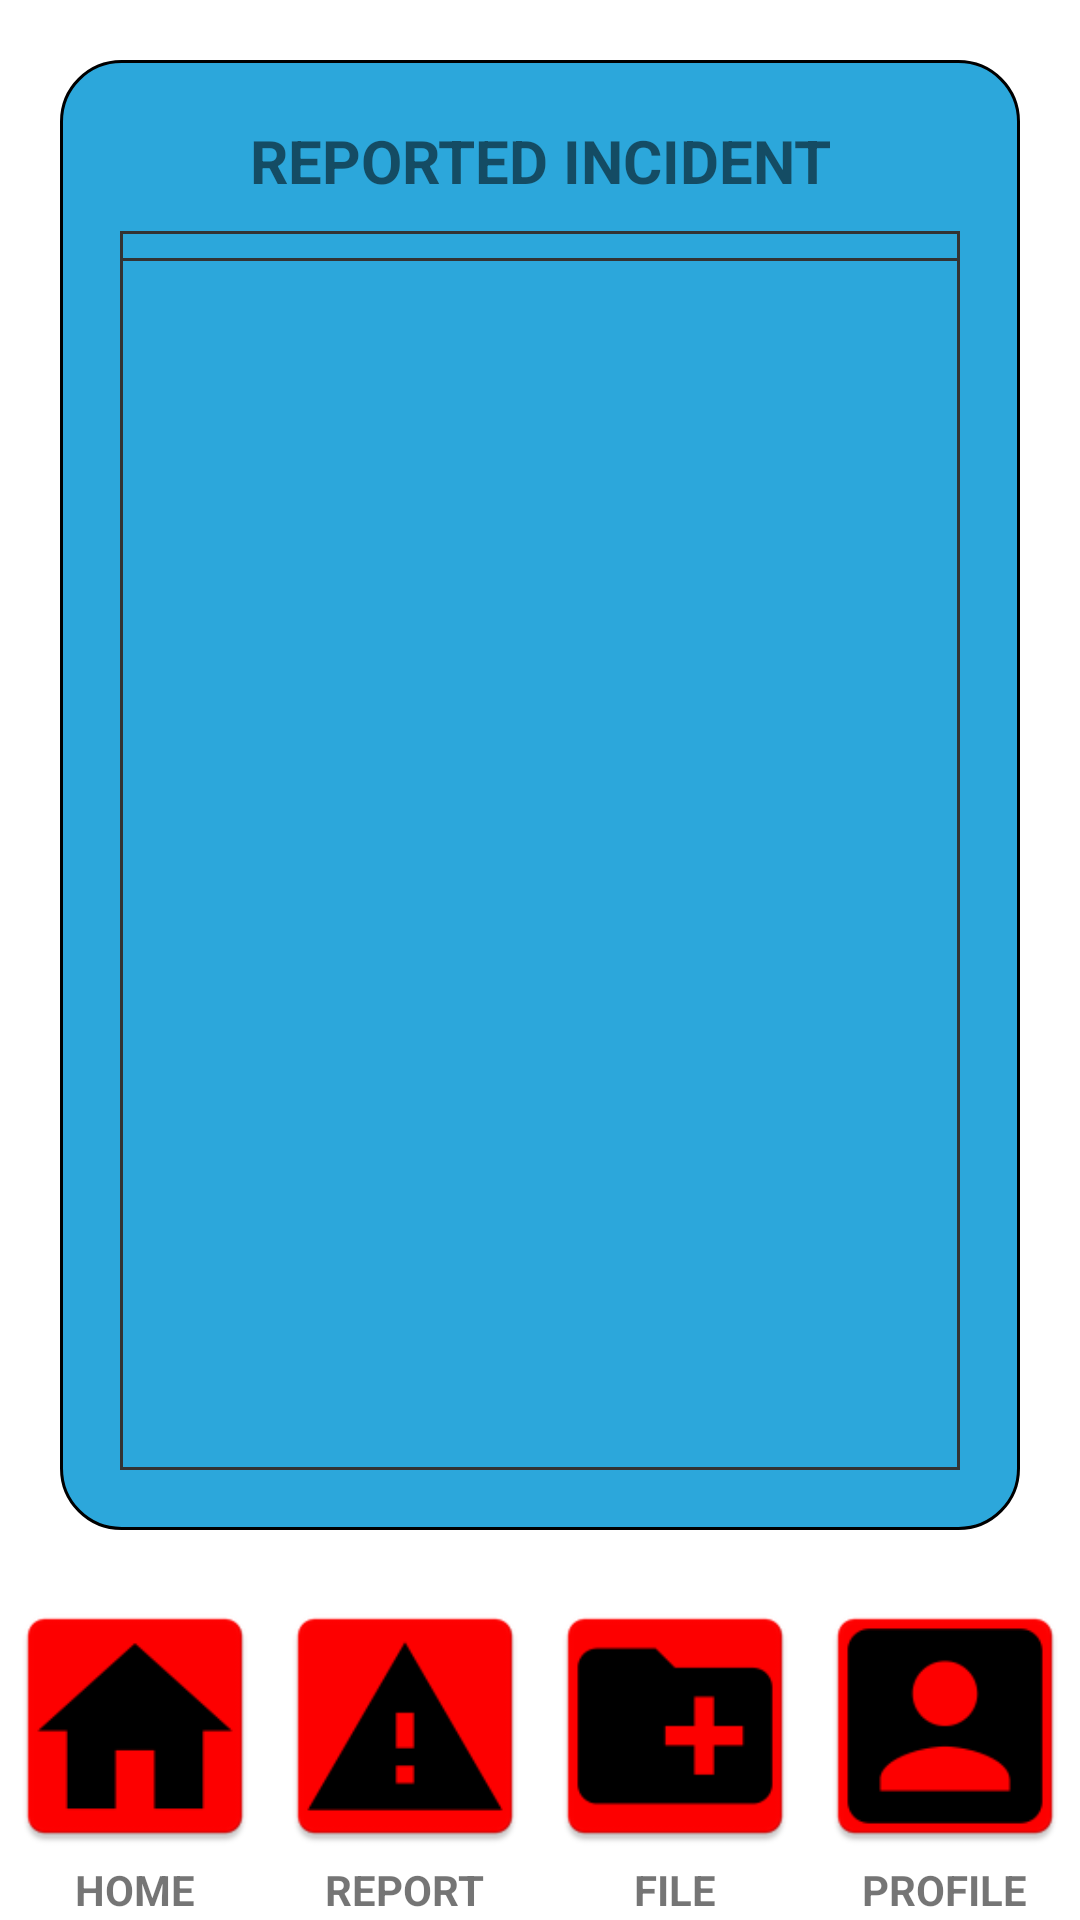

Where to tap for icons on this 1080 × 1920 app screen, as point (x, y):
folder: point (675, 1729)
